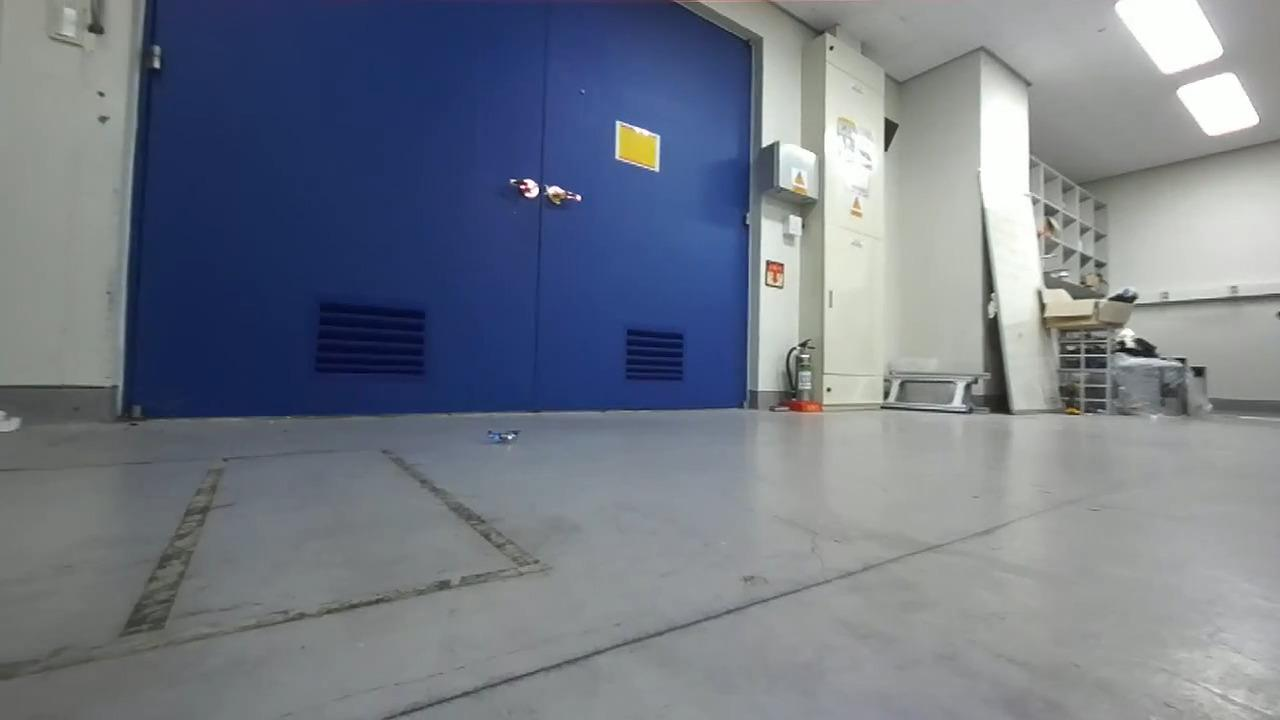crazyflie: (483, 424, 522, 446)
